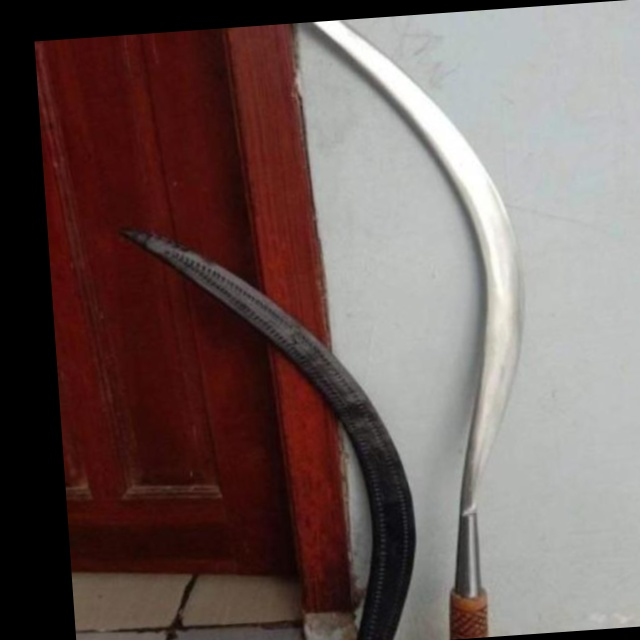Sharp-Object: (309, 10, 533, 640)
